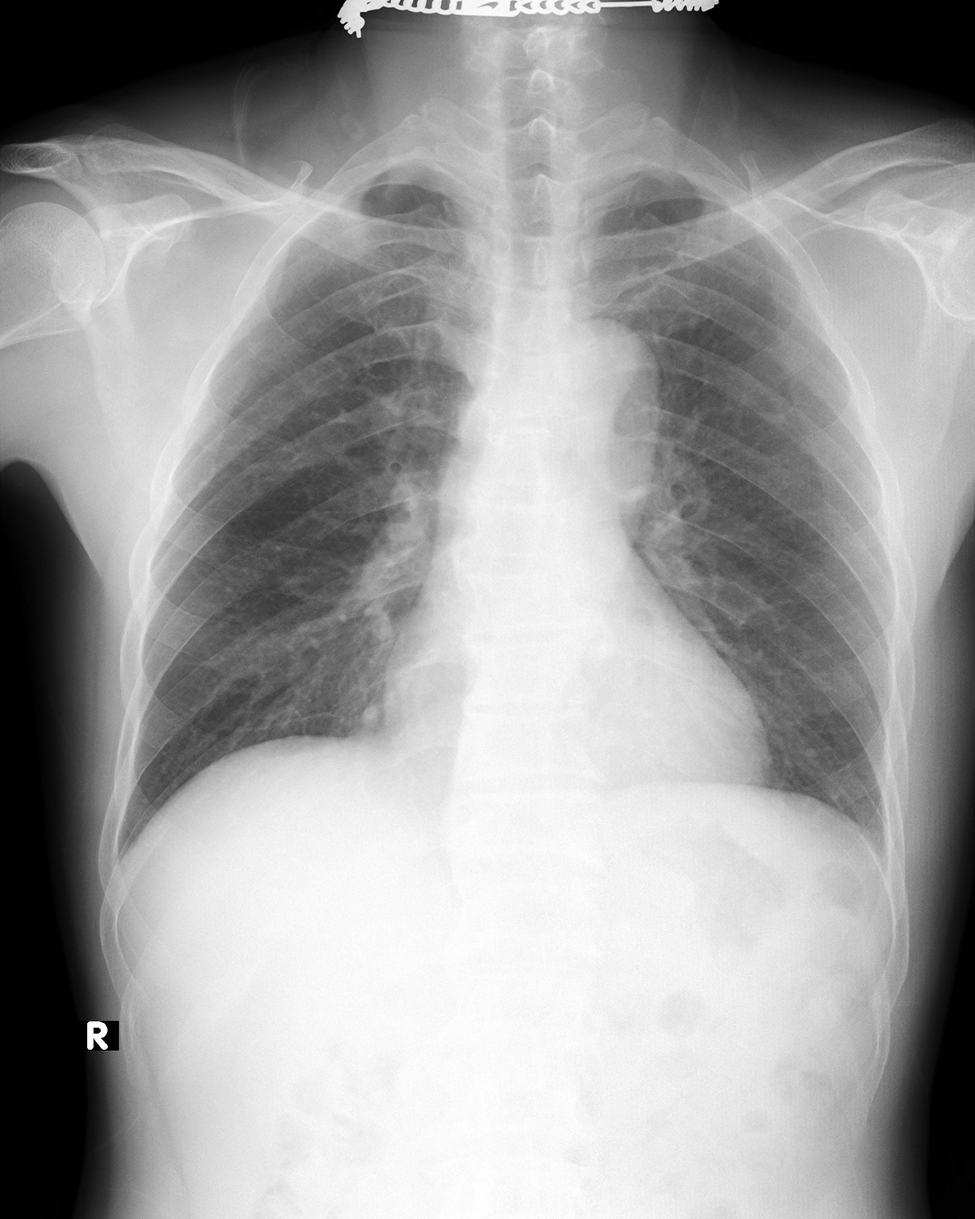Aortic enlargement: (537, 313, 662, 498)
